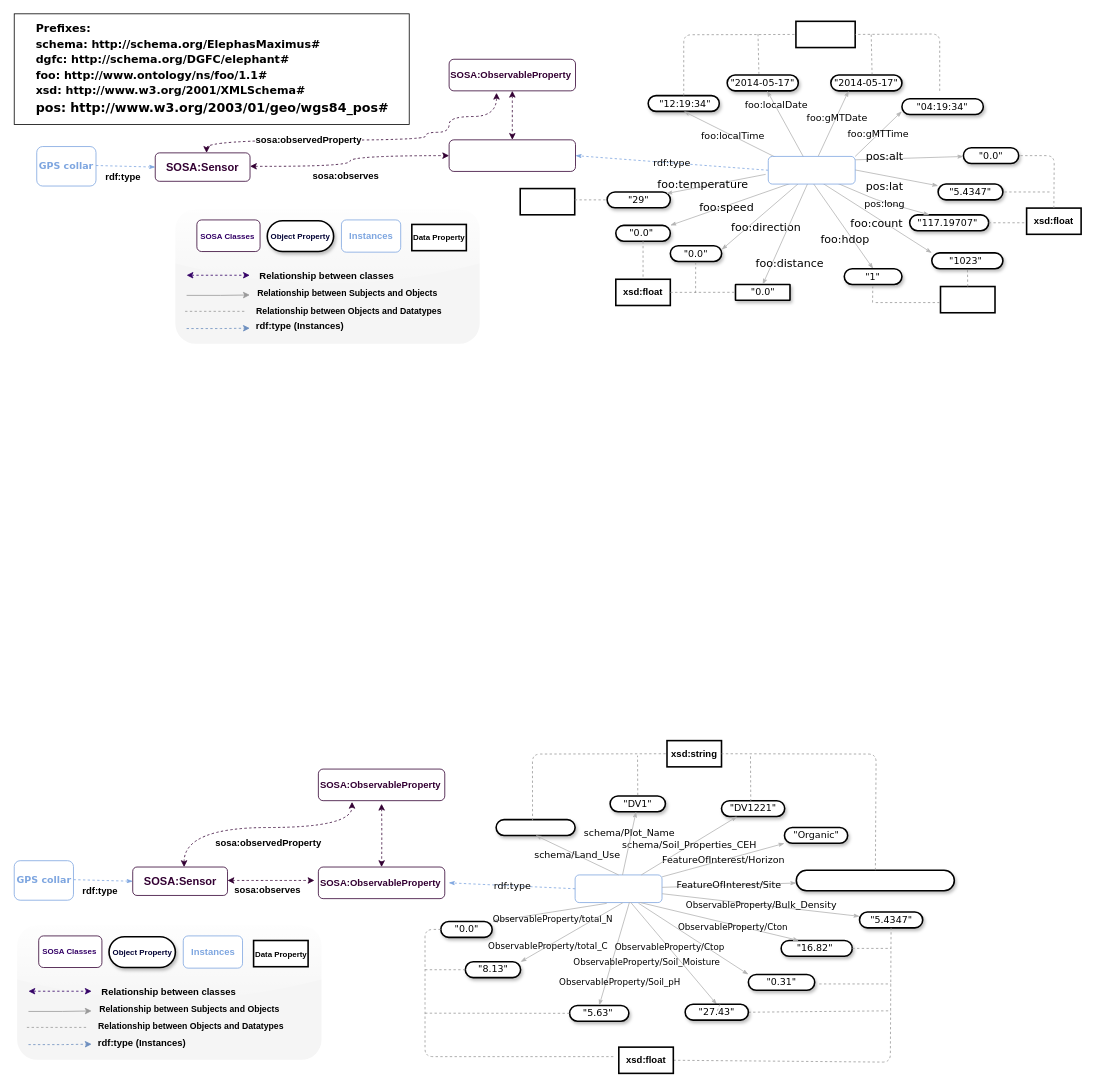
Image size: 1095x1088. Some labels were removed from this diagram. Each missing label, with the centre of its shape:
"Danum Valley Conservation Area": (x=875, y=881)
"Unlogged Forest": (x=536, y=828)
:DGFC_ID: (x=618, y=888)
:foo_100SAT32: (x=811, y=170)
SOSA:Observation: (x=512, y=155)
xsd:datetime: (x=825, y=34)
xsd:double: (x=547, y=201)
xsd:integer: (x=967, y=299)
